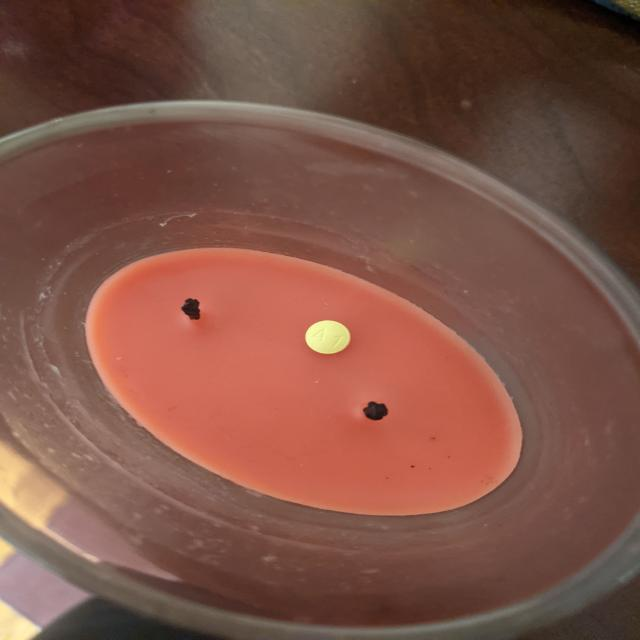non-organic waste: (304, 319, 352, 355)
